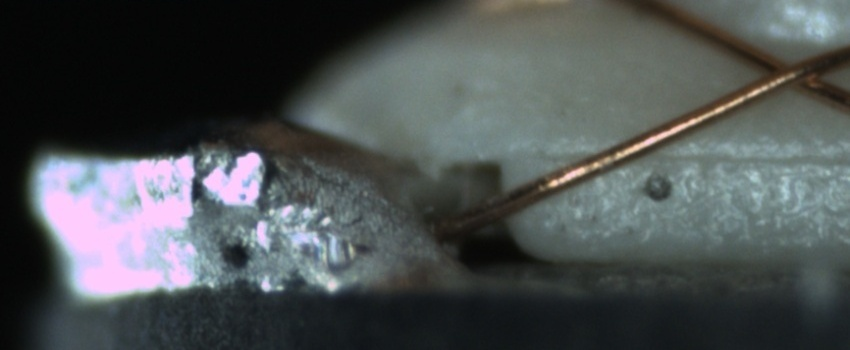CL: (736, 41, 841, 101)
DL: (536, 129, 849, 185)
